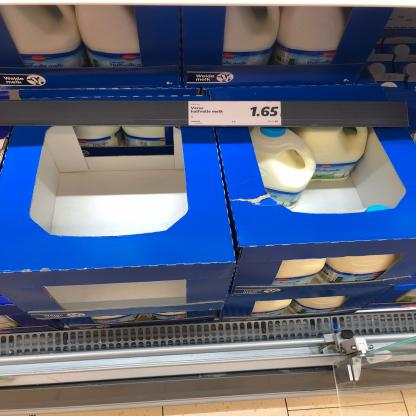prtg: (189, 102, 282, 126)
